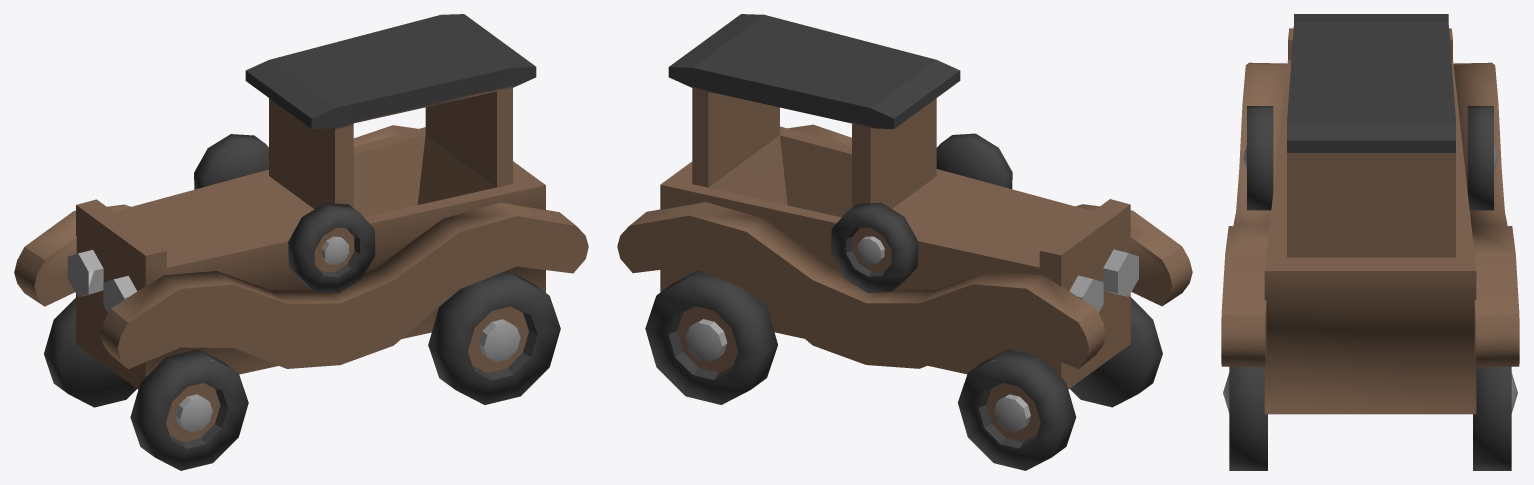
Rendered from ToyCarMesh_001.fbx.
3 renders of one model, left to right at view 1: azimuth 30°, elevation 25°; view 2: azimuth 150°, elevation 25°; view 3: azimuth 270°, elevation 25°, orthographic. The views are drawn at different scales.
Parts seen in each view (by area): view 1: ToyCar_001, FontWheels_001, BackWheels_001; view 2: ToyCar_001, FontWheels_001, BackWheels_001; view 3: ToyCar_001, BackWheels_001.
Boxes of the visible parts, x1=… form: ToyCar_001: x1=14, y1=14, x2=588, y2=389; FontWheels_001: x1=44, y1=298, x2=248, y2=470; BackWheels_001: x1=428, y1=270, x2=560, y2=404; ToyCar_001: x1=617, y1=14, x2=1192, y2=389; FontWheels_001: x1=958, y1=297, x2=1162, y2=470; BackWheels_001: x1=645, y1=270, x2=777, y2=404; ToyCar_001: x1=1221, y1=14, x2=1519, y2=414; BackWheels_001: x1=1223, y1=366, x2=1517, y2=470.
Bounding box in the file's own units: 0.0176 × 0.0112 × 0.00845.
